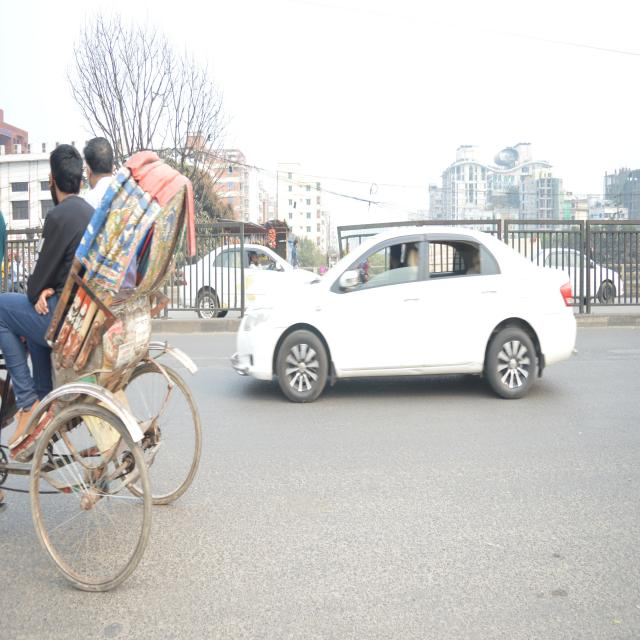car: (224, 219, 589, 413)
